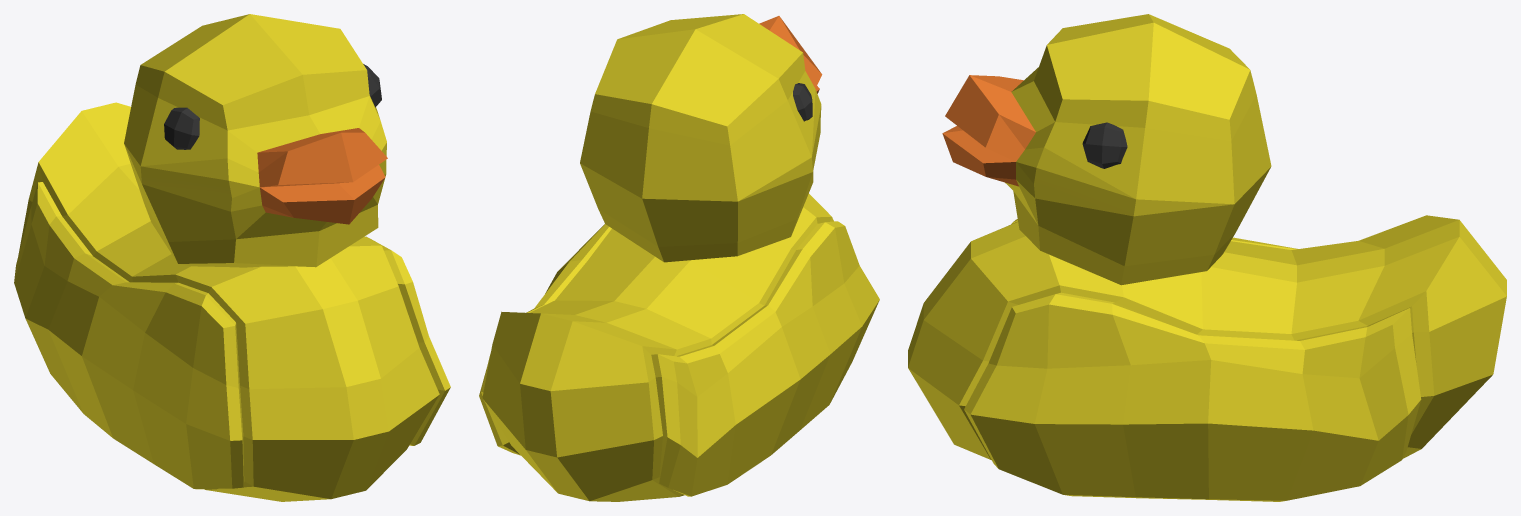
File: Duck.fbx
3 renders of one model, left to right at view 1: azimuth 30°, elevation 25°; view 2: azimuth 150°, elevation 25°; view 3: azimuth 270°, elevation 25°, orthographic. The views are drawn at different scales.
Parts seen in each view (by area): view 1: Cube.001; view 2: Cube.001; view 3: Cube.001.
Part boxes in pixels (left/top/right/bottom): Cube.001: left=14, top=14, right=450, bottom=501; Cube.001: left=479, top=14, right=879, bottom=501; Cube.001: left=908, top=14, right=1506, bottom=501.
Bounding box in the file's own units: 72.5 × 112 × 132.
